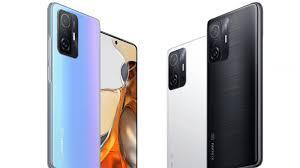Smartphone: (205, 2, 267, 168), (50, 2, 99, 168), (167, 41, 212, 168), (99, 40, 142, 168)
